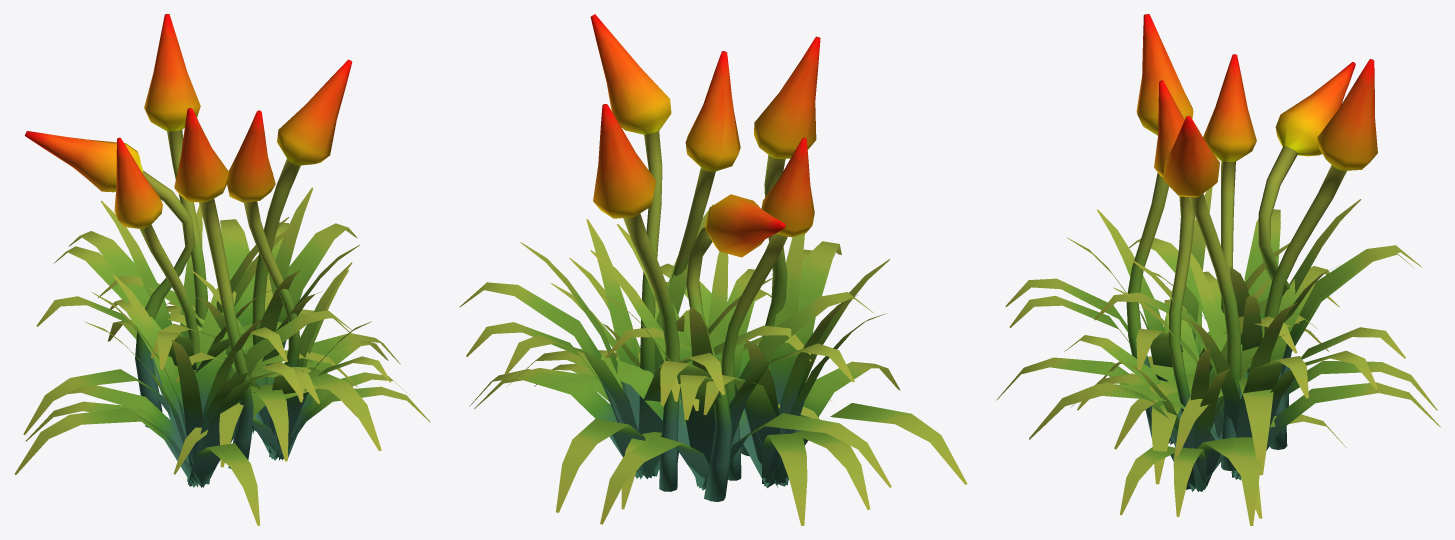
File: RedHotPokers.fbx
3 renders of one model, left to right at view 1: azimuth 30°, elevation 25°; view 2: azimuth 150°, elevation 25°; view 3: azimuth 270°, elevation 25°, orthographic. The views are drawn at different scales.
Parts seen in each view (by area): view 1: Cylinder.003, Cylinder.002, Cylinder.006, Cylinder.001, Cylinder.005, Cylinder.004, Plane.030, Plane.033, Plane.058, Plane.046, Plane.041, Plane.021 (+34 smaller); view 2: Cylinder.001, Cylinder.002, Cylinder.006, Cylinder.003, Cylinder.004, Cylinder.005, Plane.051, Plane.015, Plane.042, Plane.035, Plane.056, Plane.033 (+30 smaller); view 3: Cylinder.001, Cylinder.002, Cylinder.003, Cylinder.006, Cylinder.004, Cylinder.005, Plane.051, Plane.058, Plane.028, Plane.018, Plane.045, Plane.016 (+33 smaller).
Boxes of the visible parts, box(x1,y1,x2,y2) form: Cylinder.003: box(174, 108, 253, 468); Cylinder.002: box(252, 59, 352, 380); Cylinder.006: box(24, 131, 194, 427); Cylinder.001: box(144, 14, 208, 327); Cylinder.005: box(227, 110, 300, 441); Cylinder.004: box(114, 137, 199, 365); Plane.030: box(188, 443, 260, 525); Plane.033: box(15, 408, 203, 487); Plane.058: box(278, 223, 357, 348); Plane.046: box(220, 219, 255, 326); Plane.041: box(171, 340, 203, 468); Plane.021: box(23, 369, 171, 434); Cylinder.001: box(593, 104, 679, 491); Cylinder.002: box(590, 14, 671, 421); Cylinder.006: box(686, 194, 785, 501); Cylinder.003: box(740, 36, 820, 456); Cylinder.004: box(722, 137, 814, 480); Cylinder.005: box(670, 51, 740, 283); Plane.051: box(556, 418, 654, 512); Plane.015: box(600, 435, 709, 524); Plane.042: box(761, 433, 807, 525); Plane.035: box(770, 233, 804, 410); Plane.056: box(586, 219, 639, 429); Plane.033: box(767, 403, 967, 487); Cylinder.001: box(1264, 59, 1377, 449); Cylinder.002: box(1163, 116, 1241, 470); Cylinder.003: box(1126, 14, 1193, 443); Cylinder.006: box(1258, 62, 1355, 408); Cylinder.004: box(1203, 54, 1256, 312); Cylinder.005: box(1154, 80, 1194, 444); Plane.051: box(1266, 382, 1440, 450); Plane.058: box(1232, 356, 1308, 477); Plane.028: box(1281, 245, 1421, 369); Plane.018: box(1238, 378, 1273, 475); Plane.045: box(1230, 437, 1260, 525); Plane.016: box(1244, 209, 1280, 327).
Size of the model in its own units: 202 by 183 by 177.
